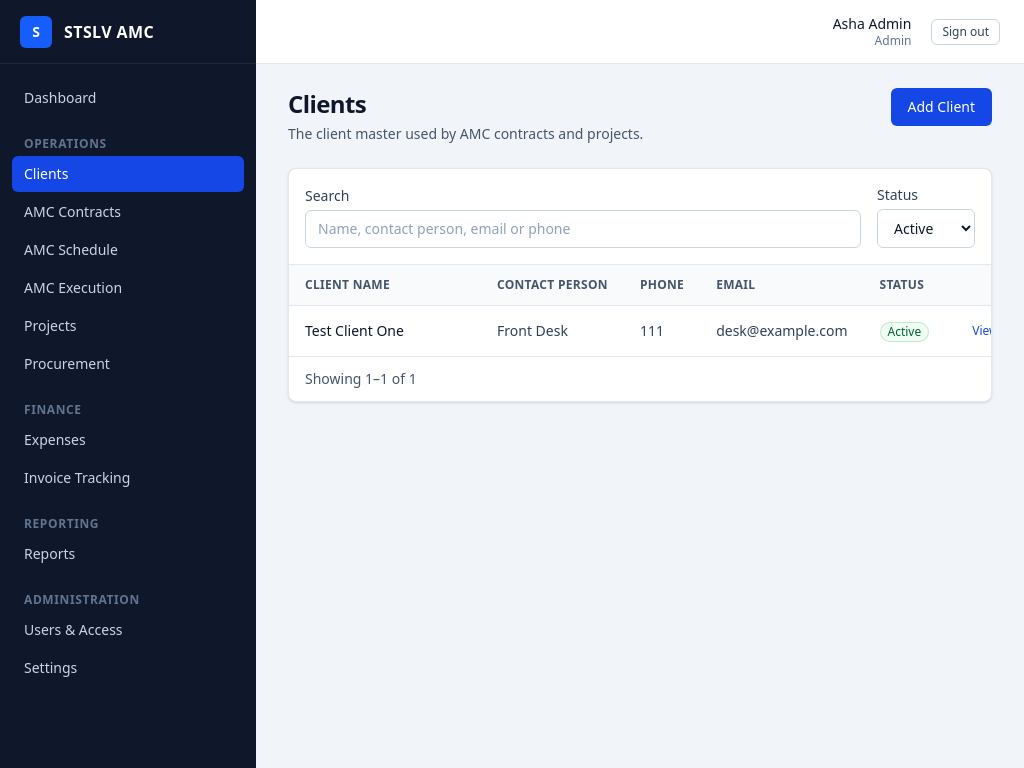
it: add client › saves a new client and shows it in the list
This screenshot has width=1024, height=768.
Click the button "Add Client" at {"x": 941, "y": 107}, box [890,88,992,126]
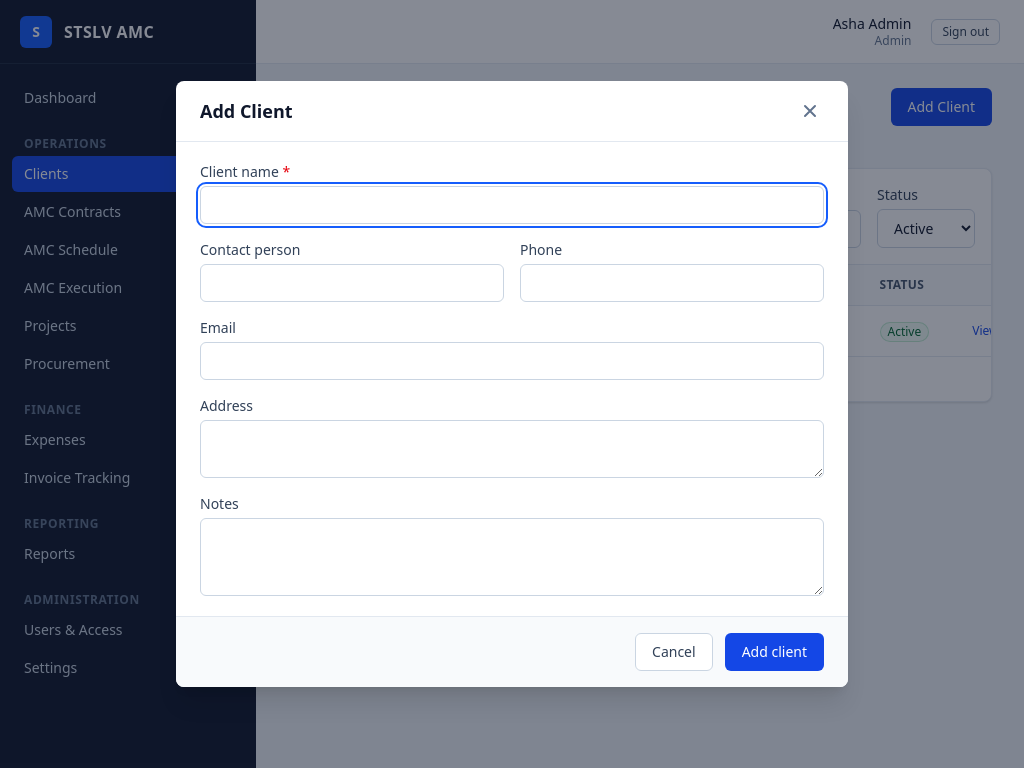
Type "  New Test Client " into the field labelled "Client name *" at {"x": 512, "y": 205}, box [200,186,824,224]
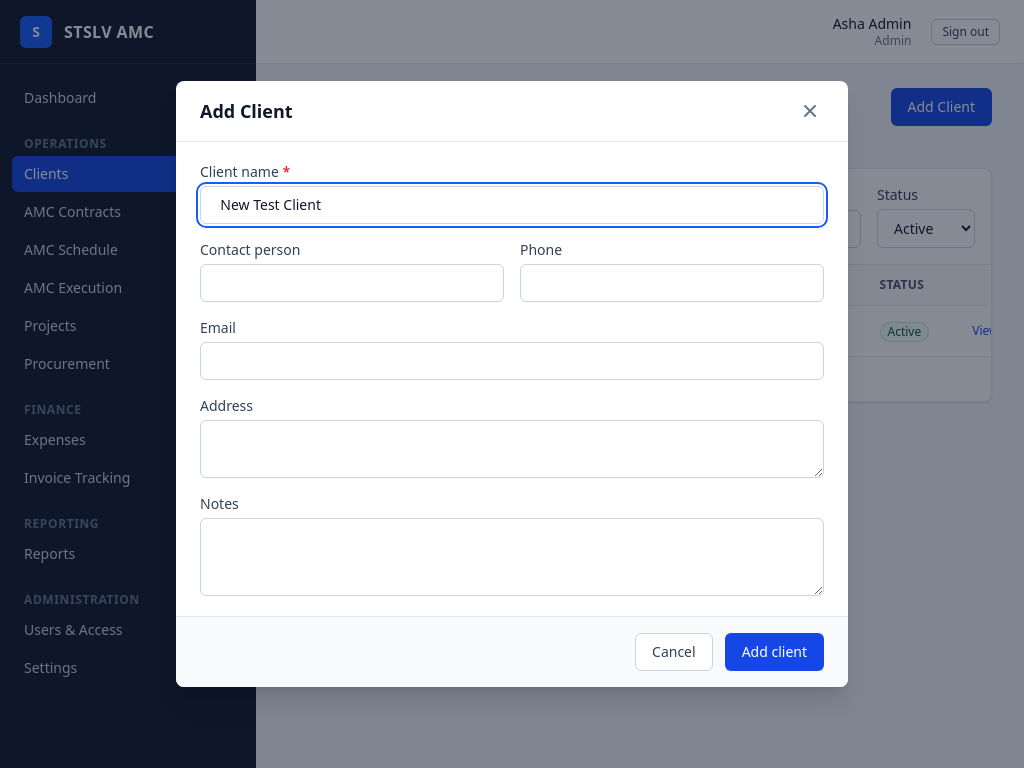
Type "555" into the field labelled "Phone" at {"x": 672, "y": 283}, box [520,264,824,302]
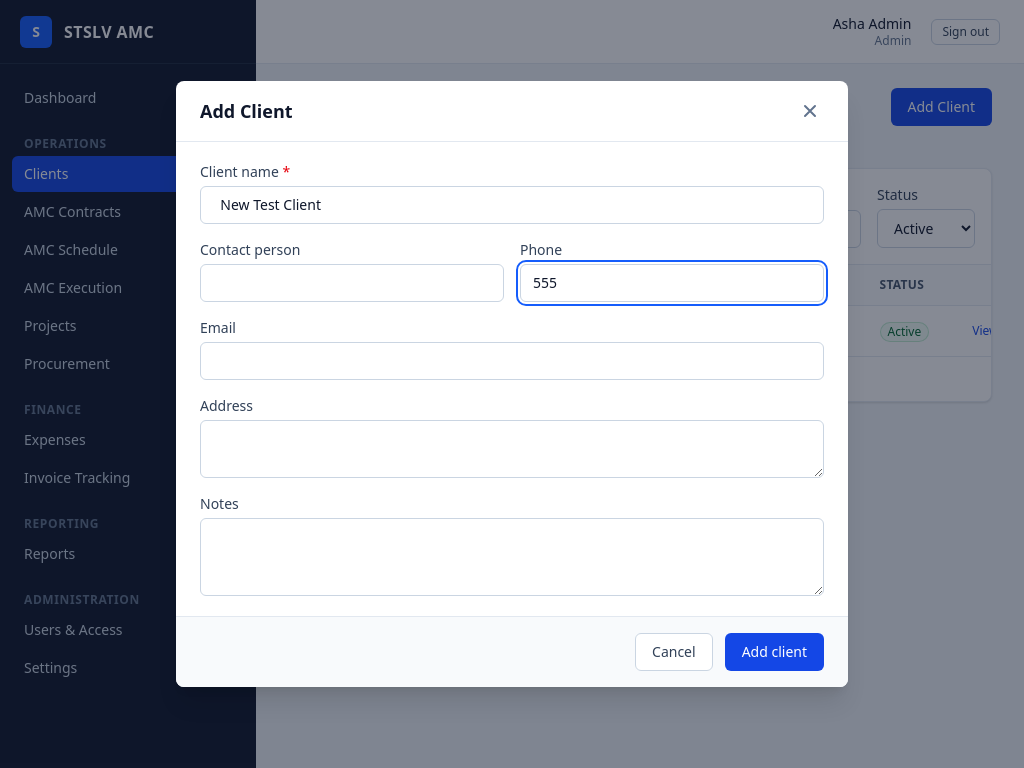
Click the button "Add client" at {"x": 774, "y": 652}, box [725,633,824,671]
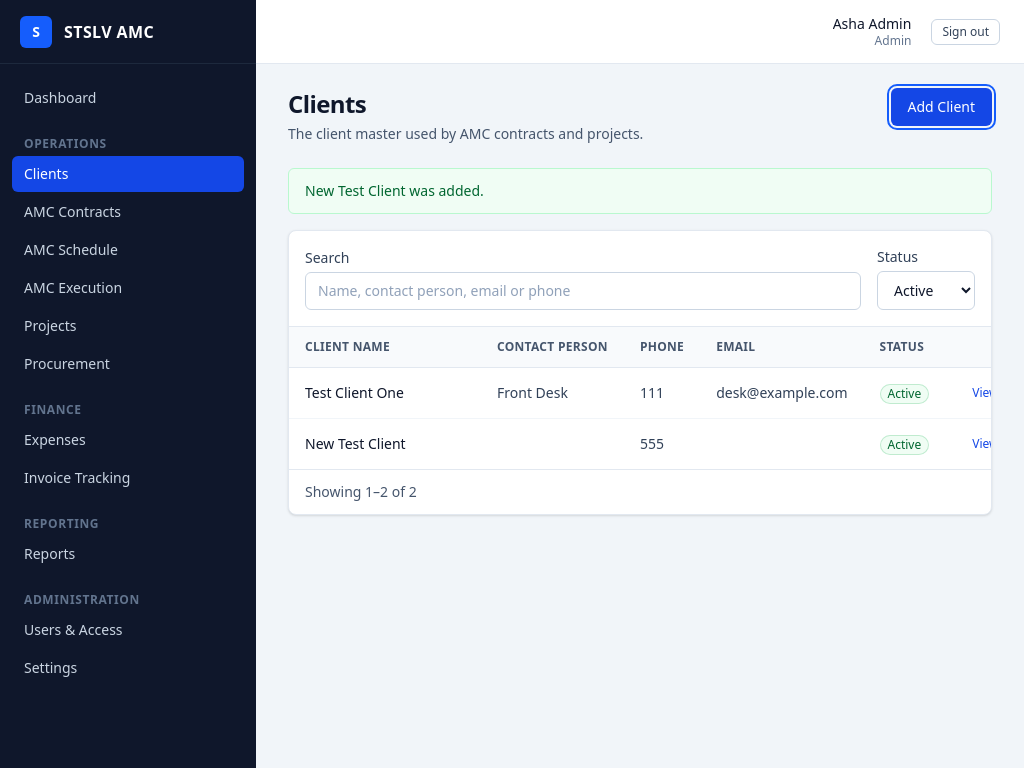
Check: the dialog is gone
Check: the message reads "New Test Client was added.", box [305,181,484,200]
Check: the button with aria-label "View New Test Client" is shown, box [961,431,991,457]
